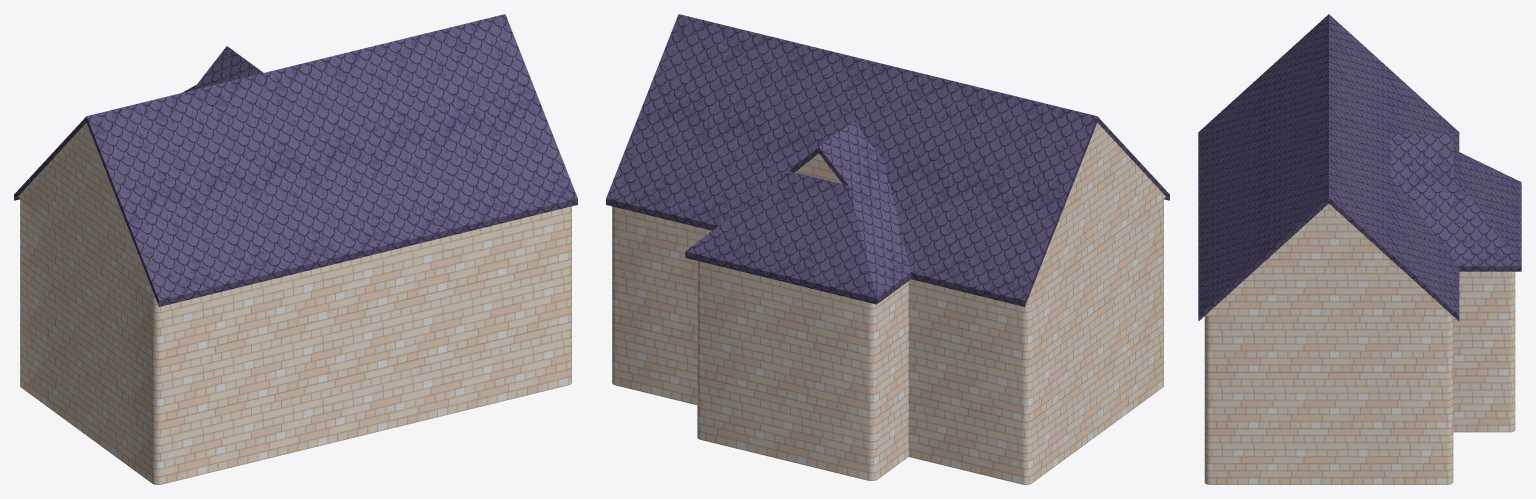
The model's file is House_Small_Full.fbx.
The picture shows the model from 3 angles, left to right: view 1: azimuth 30°, elevation 25°; view 2: azimuth 150°, elevation 25°; view 3: azimuth 270°, elevation 25°; orthographic projection. The views are drawn at different scales.
Parts seen in each view (by area): view 1: House_Small; view 2: House_Small; view 3: House_Small.
Boxes of the visible parts, x1,y1,x2,y2 form: House_Small: (14, 14, 577, 484); House_Small: (606, 14, 1169, 484); House_Small: (1198, 14, 1521, 484).
Bounding box in the file's own units: 1400 × 1020 × 1040.
